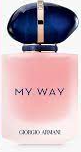armani_my_way_floral: (2, 3, 79, 146)
